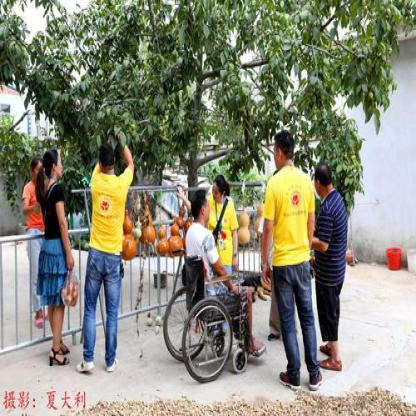wheelchair: (173, 188, 266, 382)
